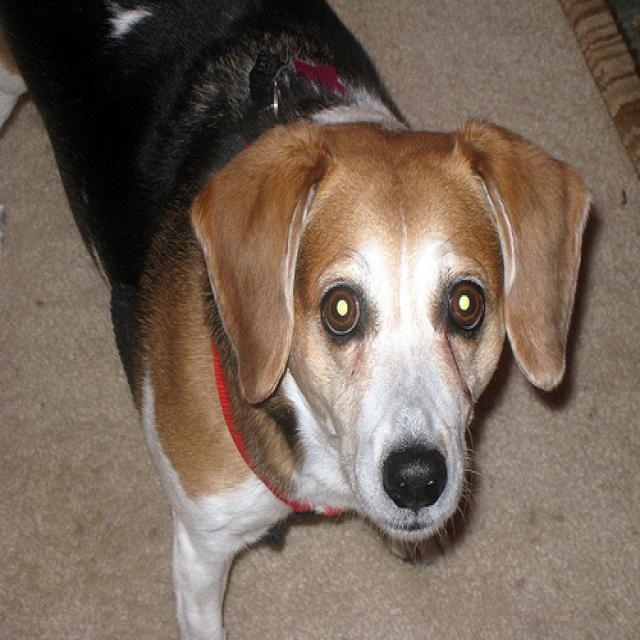dog-beagle: (1, 2, 602, 637)
